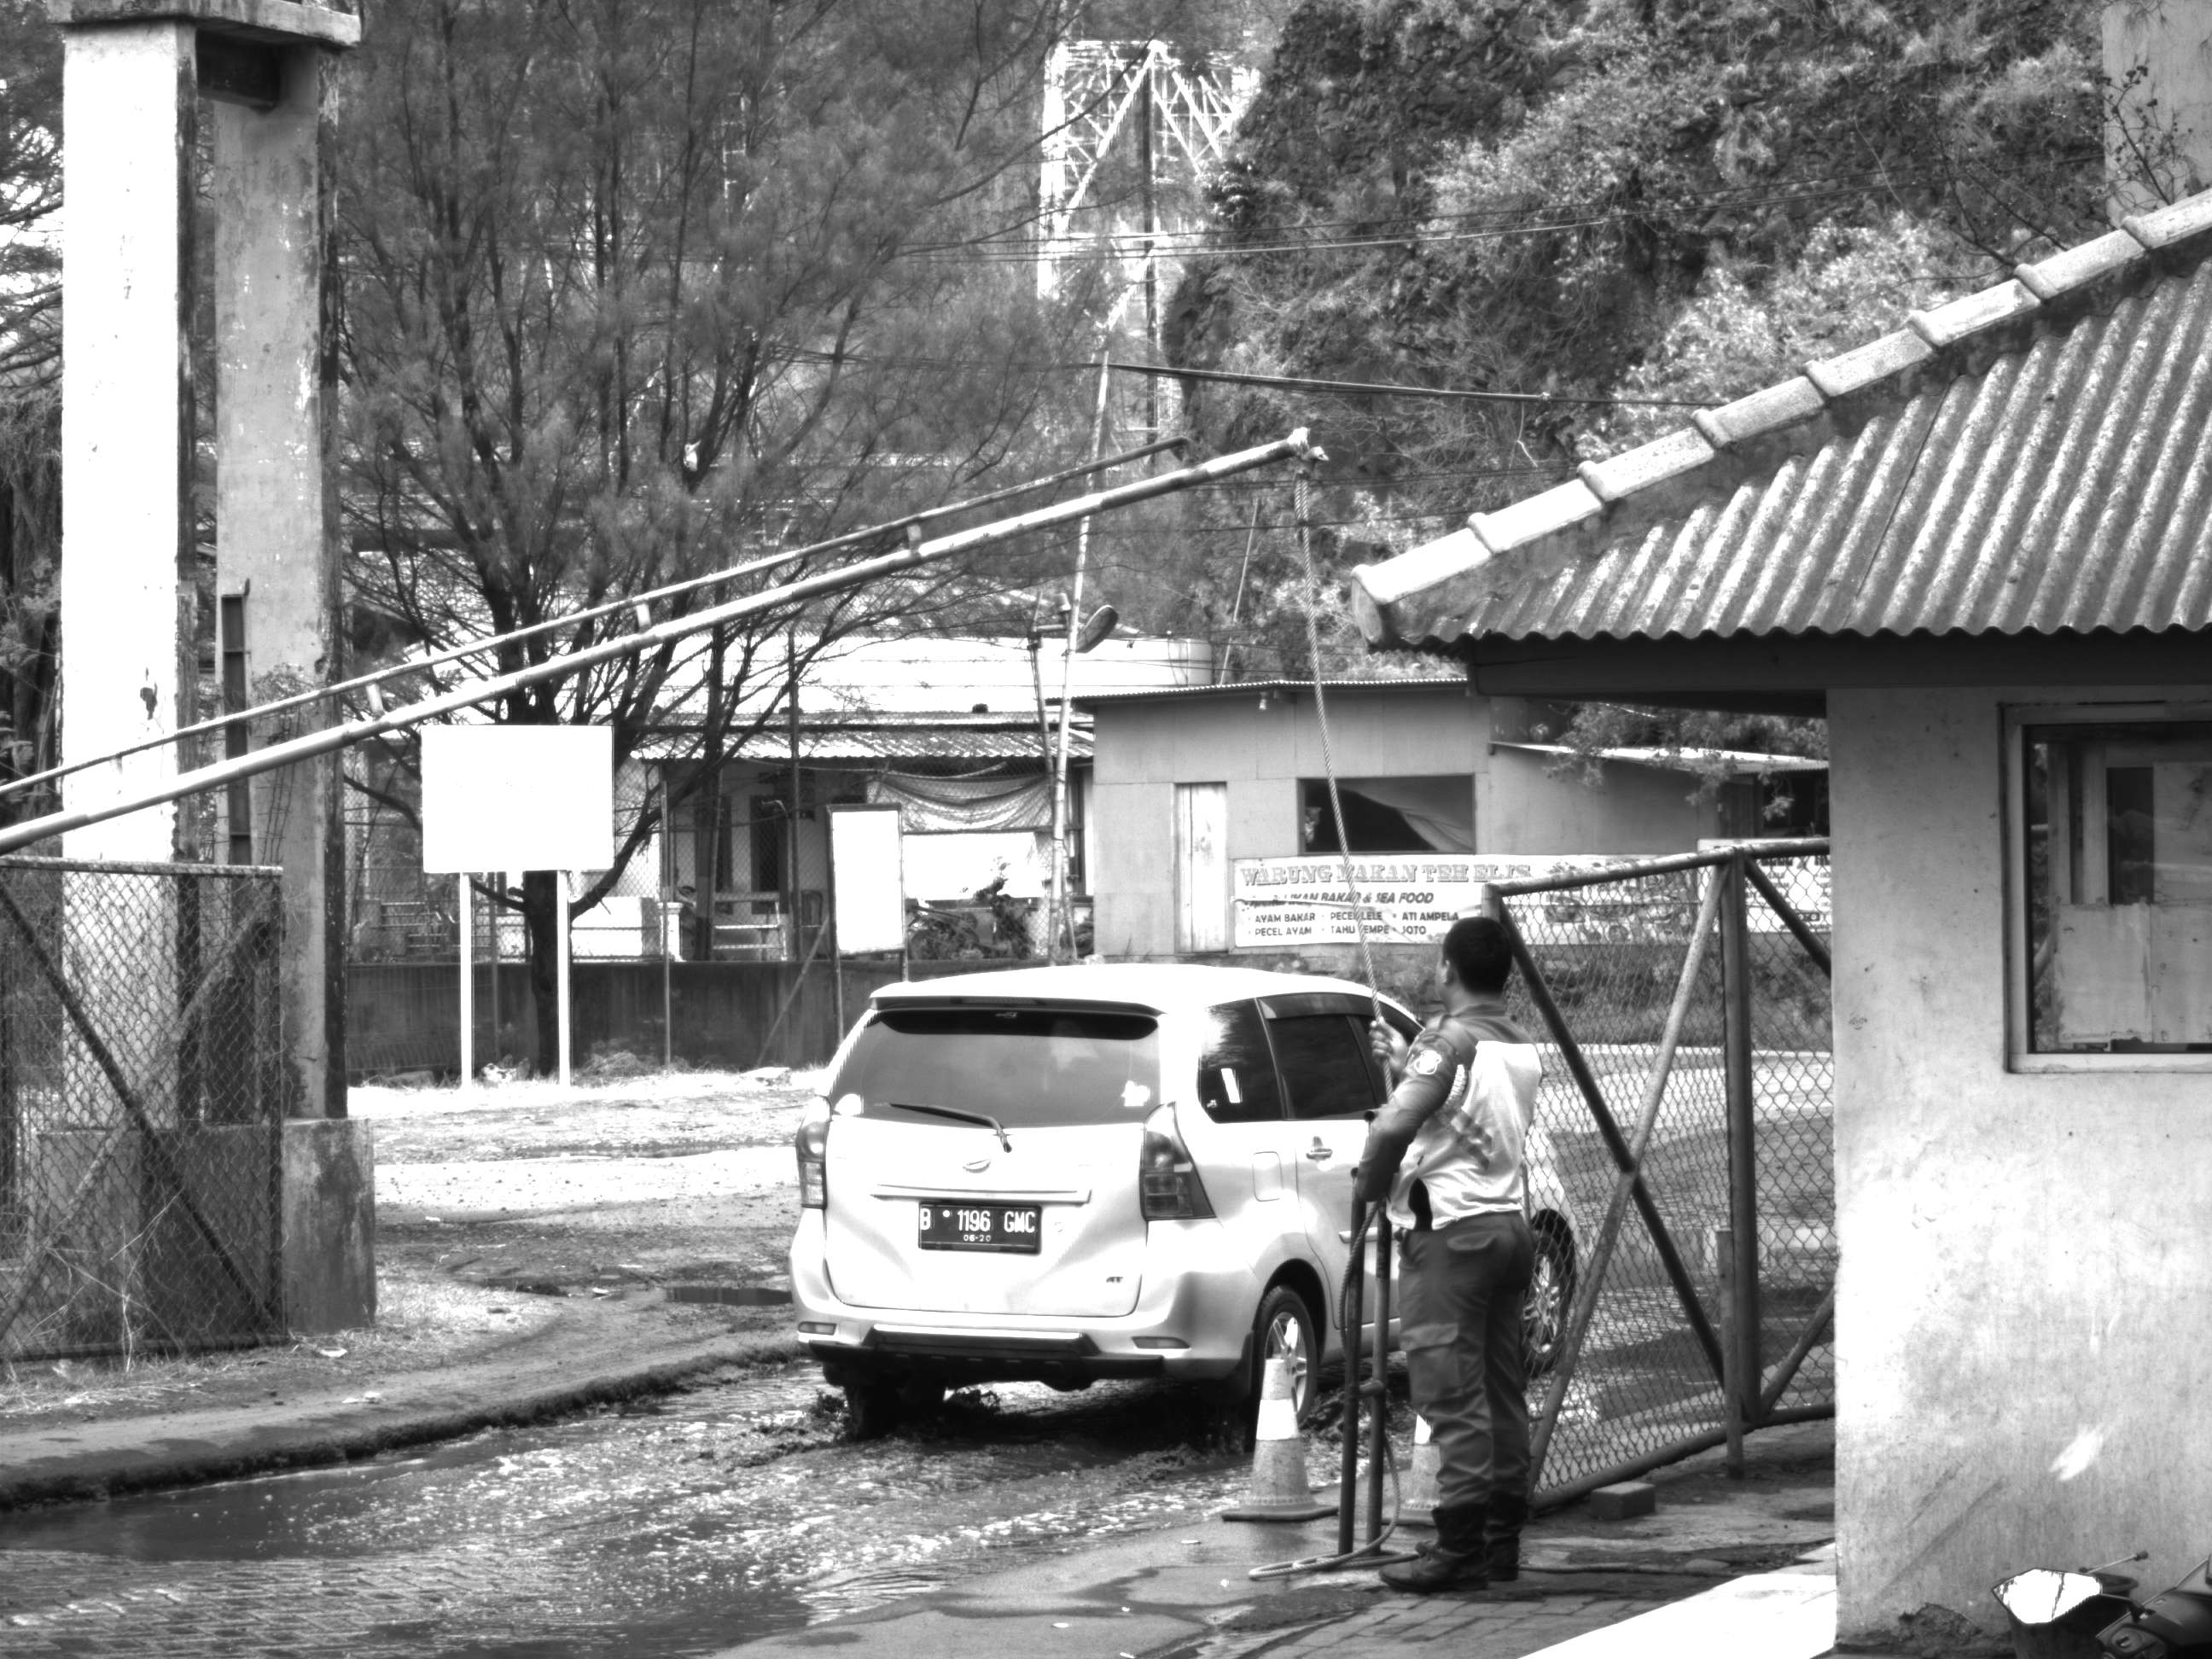day_small_rear: (792, 957, 1332, 1417)
plate: (911, 1195, 1047, 1260)
